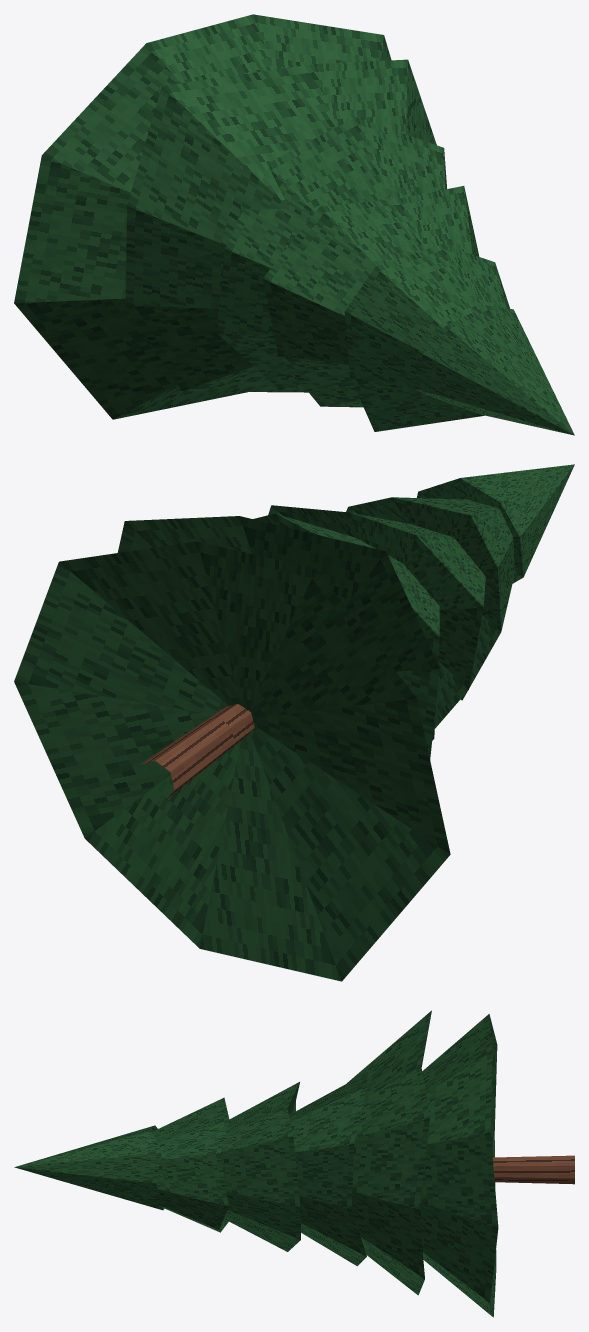
File: pine_tree_small.glb
3 renders of one model, top to bottom at view 1: azimuth 30°, elevation 25°; view 2: azimuth 150°, elevation 25°; view 3: azimuth 270°, elevation 25°, orthographic. The views are drawn at different scales.
Visible parts, largest first — view 1: leaves; view 2: leaves, bark; view 3: leaves, bark.
Boxes of the visible parts, box(x1,y1,x2,y2) form: leaves: box(14, 14, 574, 435); leaves: box(14, 464, 574, 981); bark: box(140, 704, 254, 801); leaves: box(14, 1010, 498, 1317); bark: box(492, 1155, 574, 1184).
Size of the model in its own units: 3.31 by 2.96 by 5.61.
2 materials, 2 textured.
